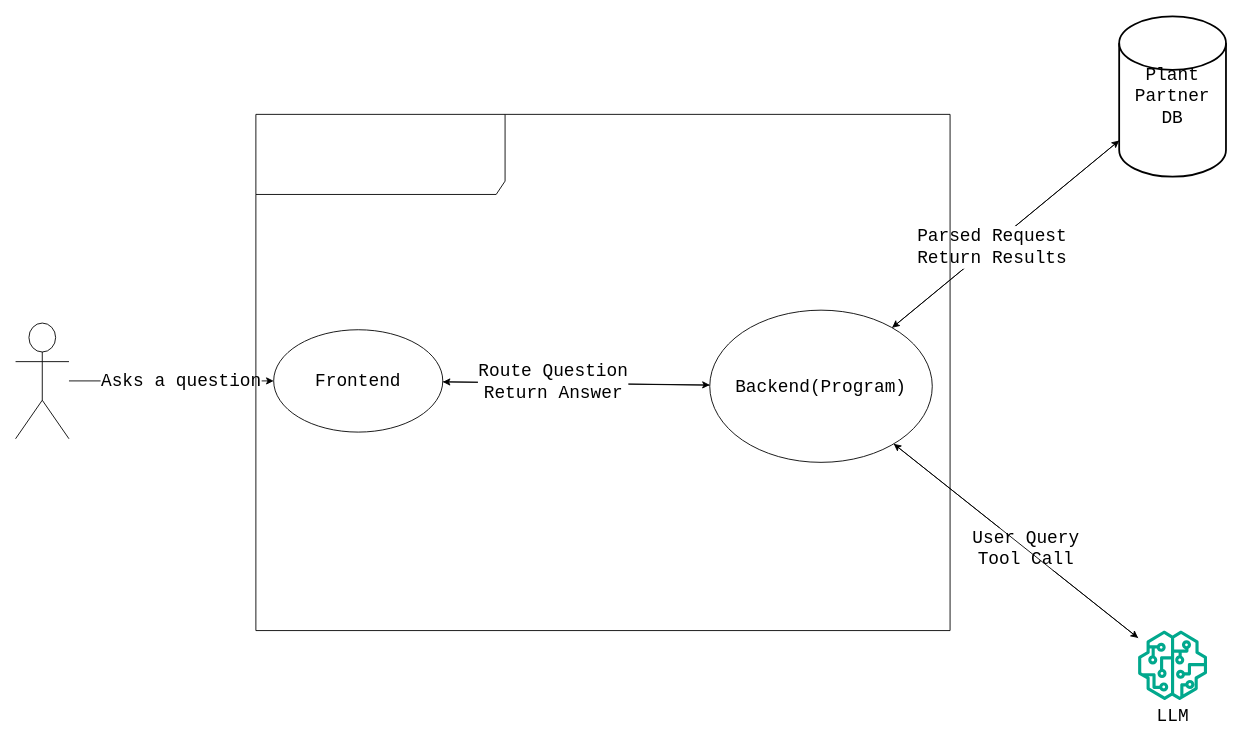
Some shapes in this 1242 by 742 pixel diagram are drawn without their labels. The shapes that lost their labels are listed below. From the top down, each one's centre as x and y in pixels, then its label:
(42,380): User
(602,372): Plant Partner
